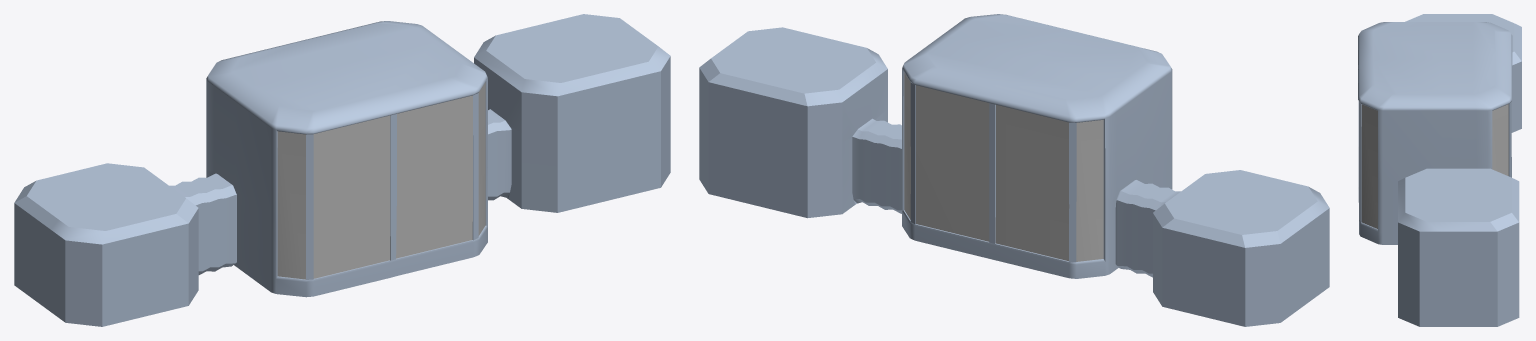
Rendered from SpaceBuildingRaw.fbx.
3 views of the same model, side by side, from view 1: azimuth 30°, elevation 25°; view 2: azimuth 150°, elevation 25°; view 3: azimuth 270°, elevation 25° (orthographic). The views are drawn at different scales.
Visible parts, largest first — view 1: SpaceBuilding, SpaceGlass; view 2: SpaceBuilding, SpaceGlass; view 3: SpaceBuilding, SpaceGlass.
Part boxes in pixels (bbox=[...]): SpaceBuilding: bbox=[14, 14, 670, 326]; SpaceGlass: bbox=[277, 82, 485, 279]; SpaceBuilding: bbox=[699, 14, 1329, 326]; SpaceGlass: bbox=[904, 72, 1103, 261]; SpaceBuilding: bbox=[1358, 14, 1521, 326]; SpaceGlass: bbox=[1361, 104, 1508, 228].
Size of the model in its own units: 11.55 by 3.24 by 3.3.
